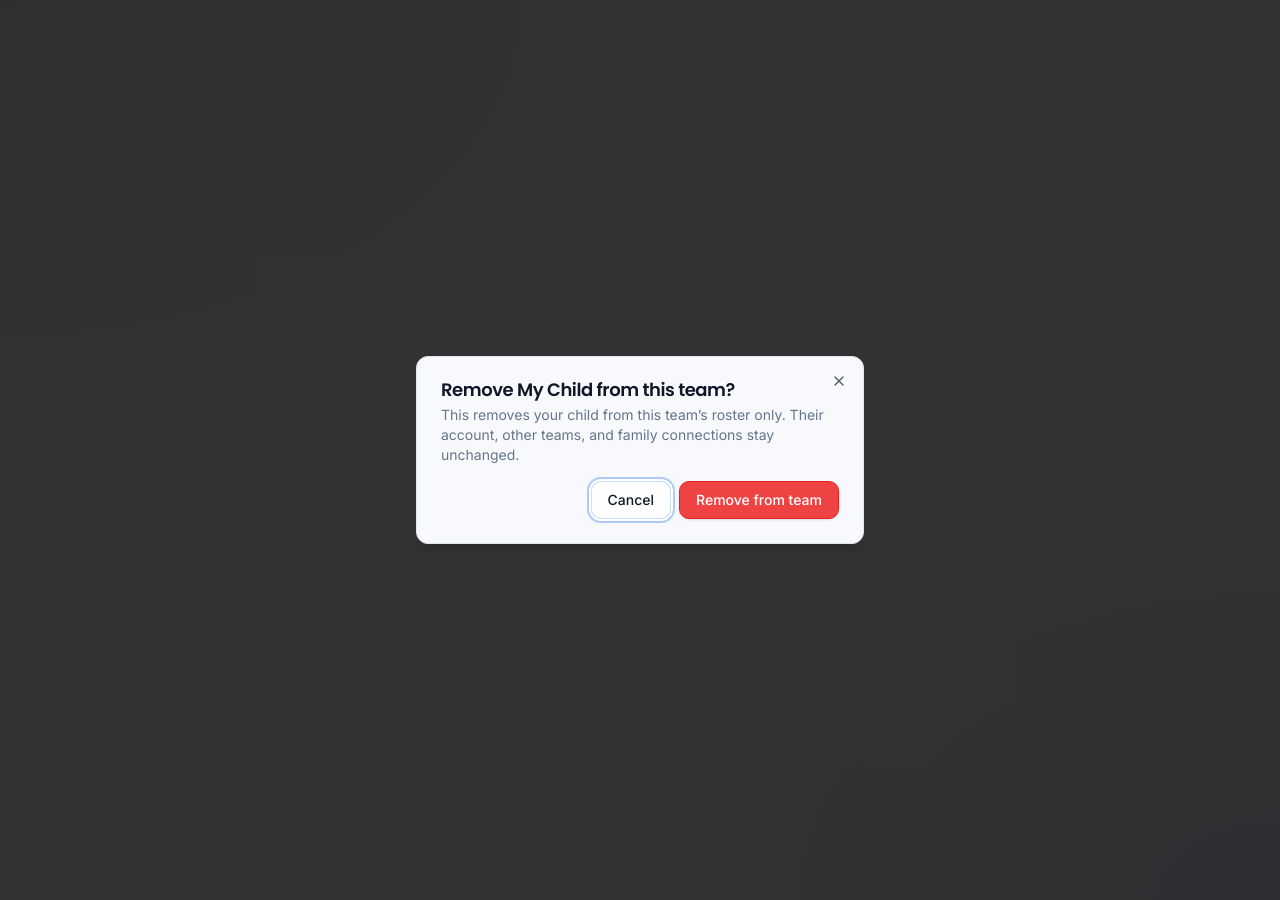
Test: parent roster controls › keeps the confirmation open with an error when removal fails
Click the button with test id "btn-remove-child-from-team": (759, 500) [679, 481, 839, 519]
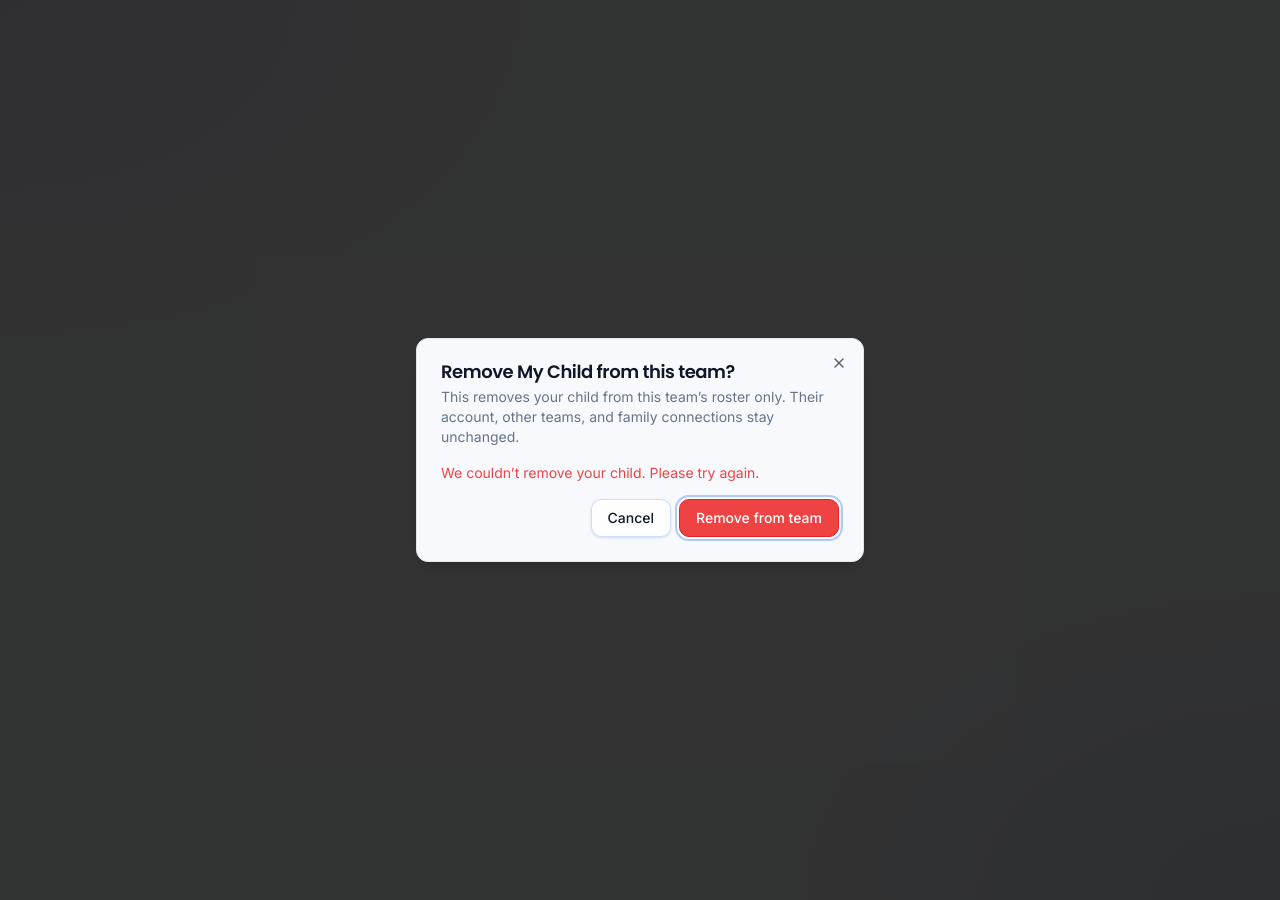
Expected: the message shows "Please try again", [441, 464, 759, 481]
